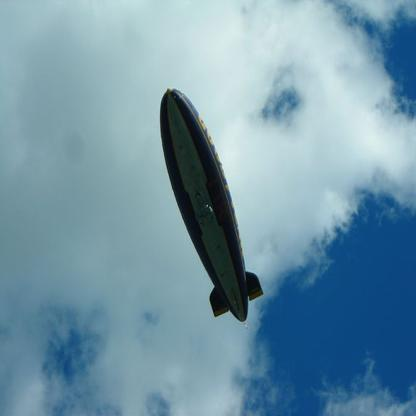Airship: (156, 85, 280, 331)
